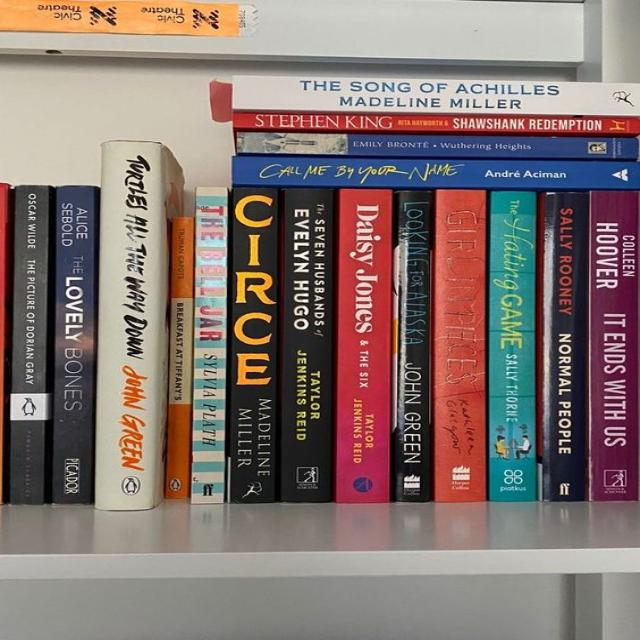book: (94, 140, 183, 511), (335, 190, 391, 502), (220, 76, 639, 117), (280, 189, 334, 501), (432, 190, 486, 501), (587, 191, 639, 500), (227, 188, 278, 503), (50, 187, 98, 504), (6, 185, 53, 504), (488, 191, 536, 501), (233, 155, 639, 190), (541, 193, 586, 500), (237, 131, 639, 161), (191, 188, 228, 503), (394, 191, 430, 501), (234, 112, 639, 134), (165, 217, 193, 499)
